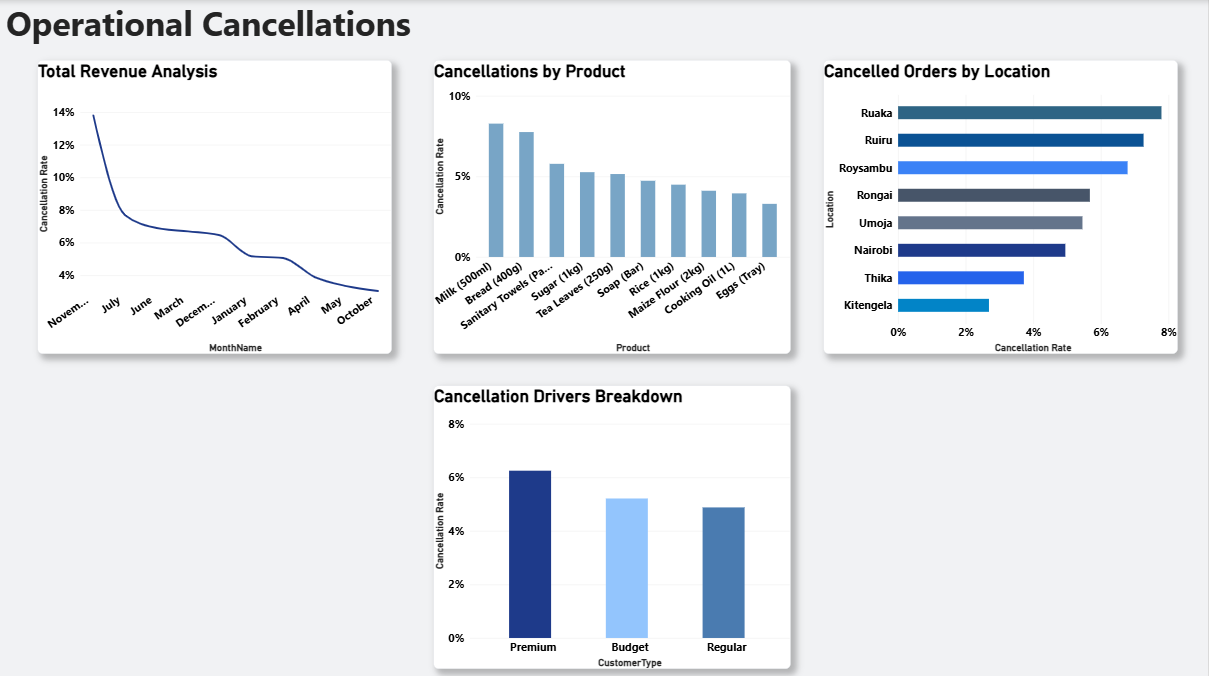

What the dashboard file says about the page in this screenshot:
{"tool":"powerbi","page":{"name":"Operational Cancellations","canvas":[1920,1080],"ordinal":3},"visuals":[{"type":"textbox","box":[9.5,0,660.9,95.4],"z":0},{"type":"lineChart","title":"Total Revenue Analysis","fields":{"Category":["dim_date.MonthName"],"Y":["dim_customers.Cancellation Rate"]},"box":[59.6,95.4,563.1,467.6],"z":1000},{"type":"clusteredColumnChart","title":"Cancellations by Product","fields":{"Category":["dim_products.Product"],"Y":["dim_customers.Cancellation Rate"]},"box":[689.5,95.4,567.8,467.6],"z":2000},{"type":"clusteredBarChart","title":"Cancelled Orders by Location","fields":{"Category":["dim_customers.Location"],"Y":["dim_customers.Cancellation Rate"]},"box":[1309.9,95.4,563.1,467.6],"z":3000},{"type":"columnChart","title":"Cancellation Drivers Breakdown","fields":{"Category":["dim_customers.CustomerType"],"Y":["dim_customers.Cancellation Rate"]},"box":[689.5,613.2,567.8,450.9],"z":4000}]}

Visuals, with their boxes in screenshot pixels (x1, y1, x2, y2), scaled from the page's 1920x1080 canvas onto the 1209x676 screenshot:
textbox: x1=6, y1=0, x2=422, y2=60
"Total Revenue Analysis" lineChart: x1=38, y1=60, x2=392, y2=352
"Cancellations by Product" clusteredColumnChart: x1=434, y1=60, x2=792, y2=352
"Cancelled Orders by Location" clusteredBarChart: x1=825, y1=60, x2=1179, y2=352
"Cancellation Drivers Breakdown" columnChart: x1=434, y1=384, x2=792, y2=666
